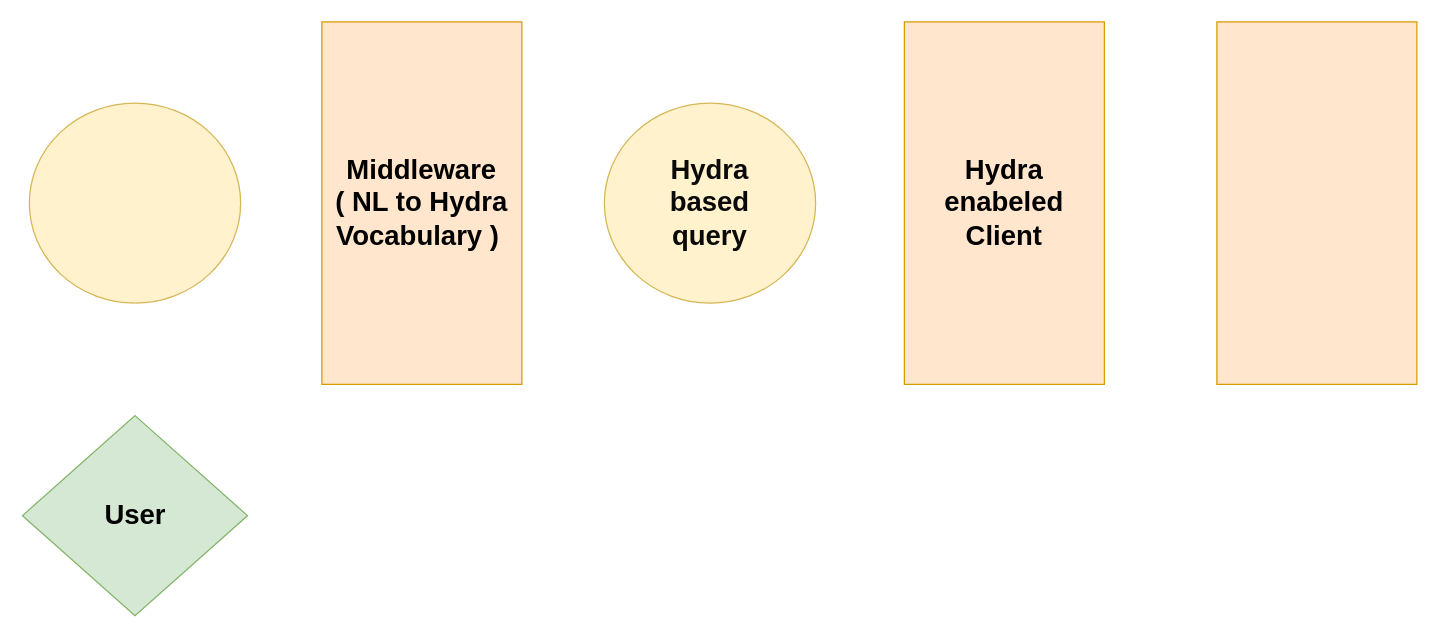
The diagram is 1439 pixels wide and 638 high, and some of its shapes have lost their labels. The centre of each missing label's shape, as x and y in pixels:
Hydra enabeled Server: the point at 1316,202
Natural Language Query: the point at 134,202
